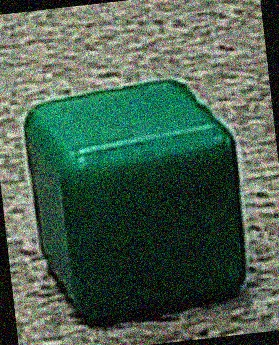green_cube: (1, 67, 279, 331)
